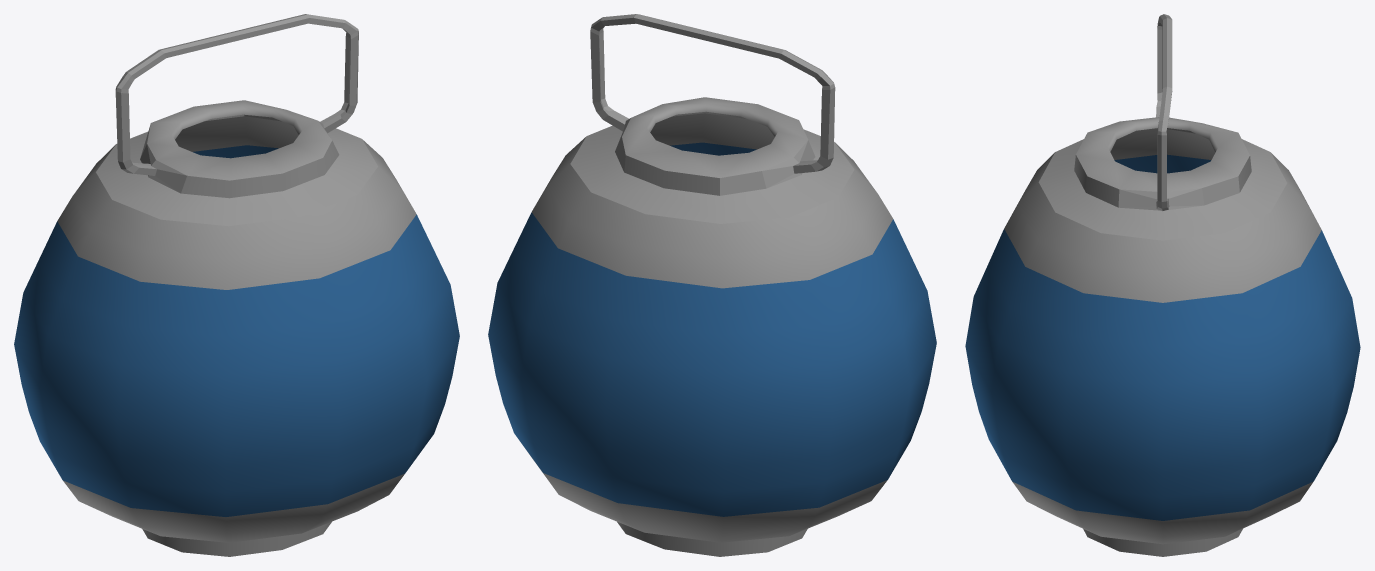
File: Lantern_4 alt.FBX
The picture shows the model from 3 angles, left to right: view 1: azimuth 30°, elevation 25°; view 2: azimuth 150°, elevation 25°; view 3: azimuth 270°, elevation 25°; orthographic projection. The views are drawn at different scales.
Visible parts, largest first — view 1: Capsule004; view 2: Capsule004; view 3: Capsule004.
Boxes of the visible parts, x1=… form: Capsule004: x1=14, y1=14, x2=459, y2=556; Capsule004: x1=488, y1=14, x2=936, y2=556; Capsule004: x1=965, y1=14, x2=1360, y2=556.
Size of the model in its own units: 29.3 by 34.87 by 26.53.
